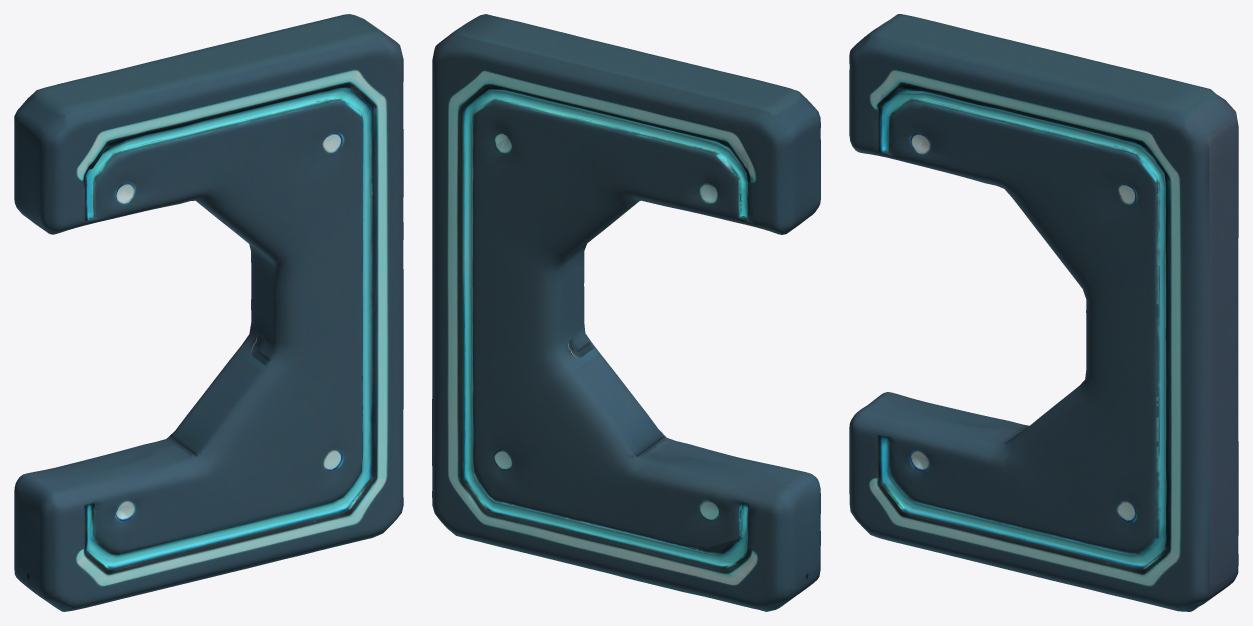
File: Neon_Circuitry_0926195930_texture.fbx
3 renders of one model, left to right at view 1: azimuth 30°, elevation 25°; view 2: azimuth 150°, elevation 25°; view 3: azimuth 330°, elevation 25°, orthographic.
Parts seen in each view (by area): view 1: Mesh0; view 2: Mesh0; view 3: Mesh0.
Part boxes in pixels (box(x1,y1,x2,y2)): Mesh0: box(14, 14, 403, 611); Mesh0: box(432, 14, 820, 611); Mesh0: box(849, 14, 1238, 611).
Size of the model in its own units: 144 by 191 by 28.92.
1 material, 1 textured.
